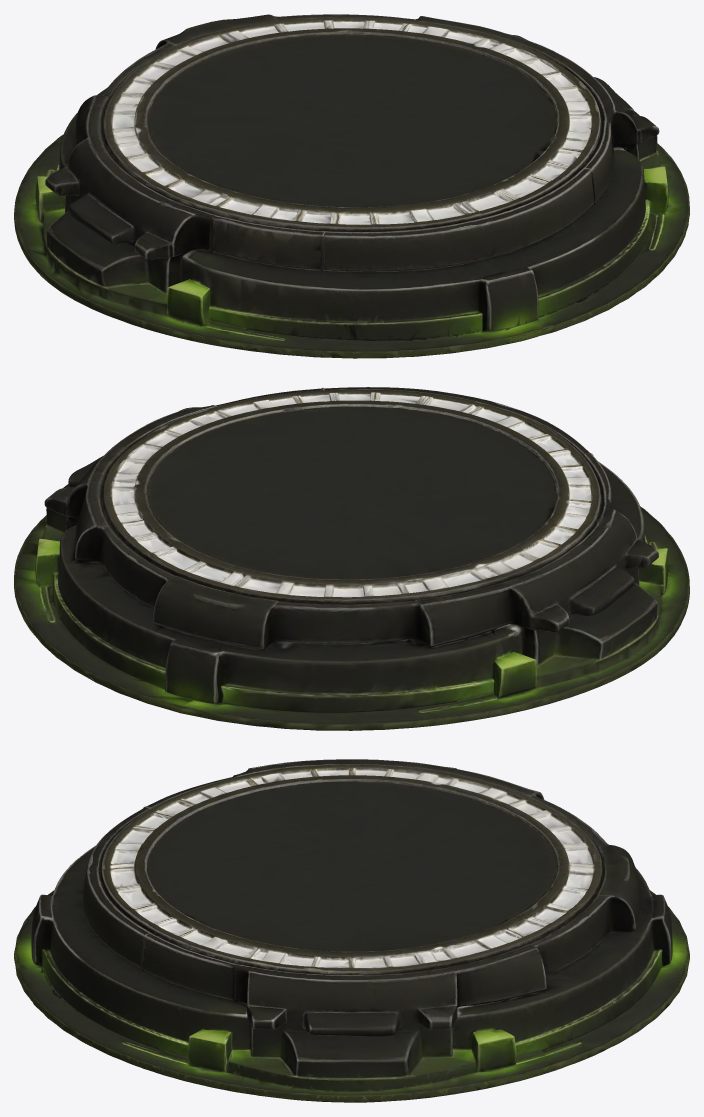
Rendered from platform.glb.
3 renders of one model, top to bottom at view 1: azimuth 30°, elevation 25°; view 2: azimuth 150°, elevation 25°; view 3: azimuth 270°, elevation 25°, orthographic.
Parts seen in each view (by area): view 1: tripo_node_64c35458-560c-4481-9ccd-837271f803ea; view 2: tripo_node_64c35458-560c-4481-9ccd-837271f803ea; view 3: tripo_node_64c35458-560c-4481-9ccd-837271f803ea.
Boxes of the visible parts, <box> form: tripo_node_64c35458-560c-4481-9ccd-837271f803ea: <box>14,14,689,358</box>; tripo_node_64c35458-560c-4481-9ccd-837271f803ea: <box>14,387,689,730</box>; tripo_node_64c35458-560c-4481-9ccd-837271f803ea: <box>14,759,689,1102</box>.
Bounding box in the file's own units: 2.3 × 0.3594 × 2.3.
Materials: 1 (1 with a texture image).
